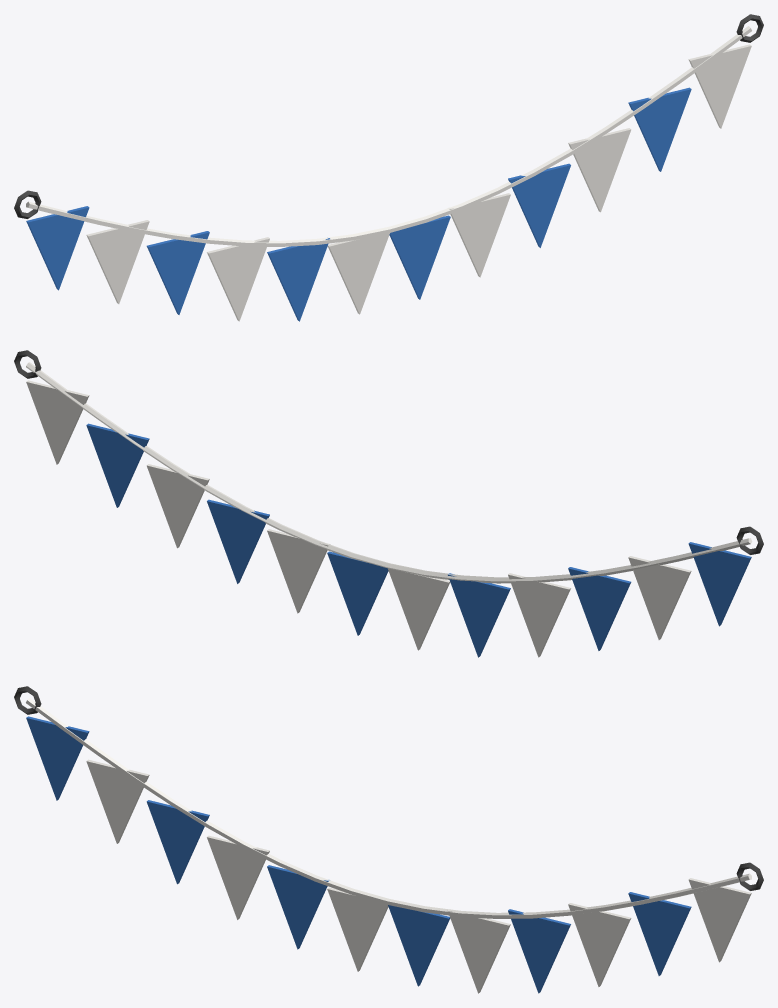
Rendered from bandeirolas_baviera.glb.
3 renders of one model, top to bottom at view 1: azimuth 30°, elevation 25°; view 2: azimuth 150°, elevation 25°; view 3: azimuth 330°, elevation 25°, orthographic.
Parts seen in each view (by area): view 1: Bandeirolas_Baviera; view 2: Bandeirolas_Baviera; view 3: Bandeirolas_Baviera.
Part boxes in pixels (x1,y1,x2,y2): Bandeirolas_Baviera: (14,14,763,321); Bandeirolas_Baviera: (14,350,763,657); Bandeirolas_Baviera: (14,686,763,993).
Size of the model in its own units: 2.08 by 0.5404 by 0.016.
